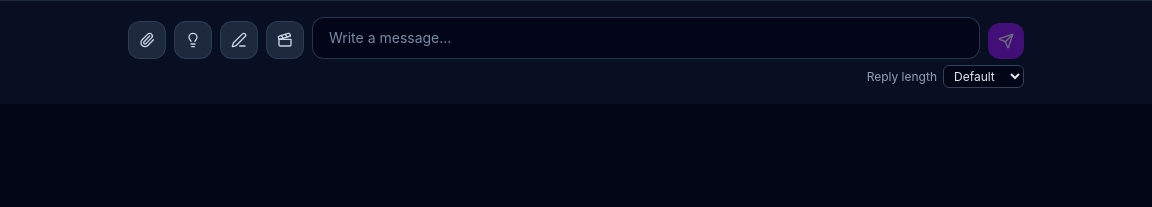
chat generation failures › shows prompt errors and retries the saved user message without inserting it again
Type "Hello" into the text box.
click(646, 38); type("Hello")  # box x1=312 y1=17 x2=980 y2=59
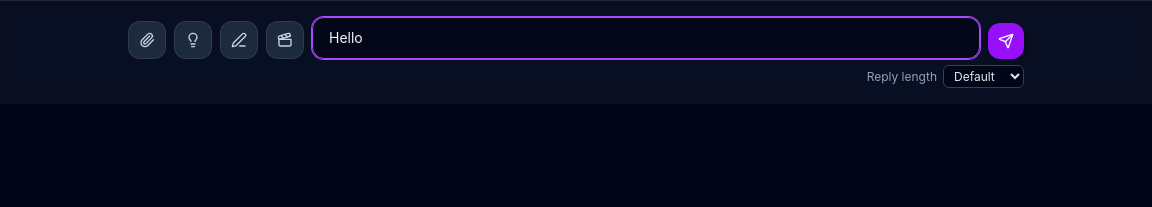
Click the button named "Send message".
click(1006, 41)  # box x1=988 y1=23 x2=1024 y2=59
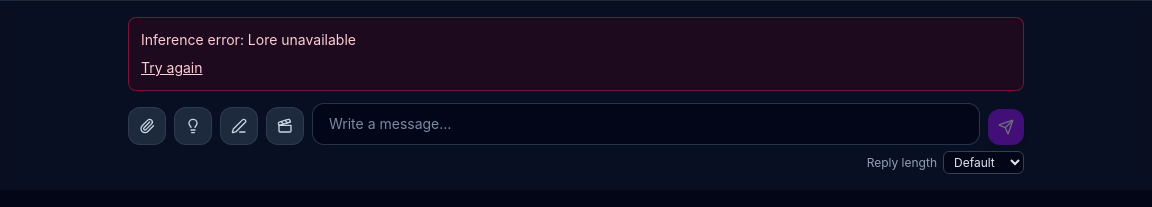
Now the message shows "Lore unavailable", box x1=141 y1=31 x2=356 y2=48
Now the text box is empty, box x1=312 y1=103 x2=980 y2=145
Click the button "Try again".
click(172, 68)  # box x1=141 y1=58 x2=202 y2=78
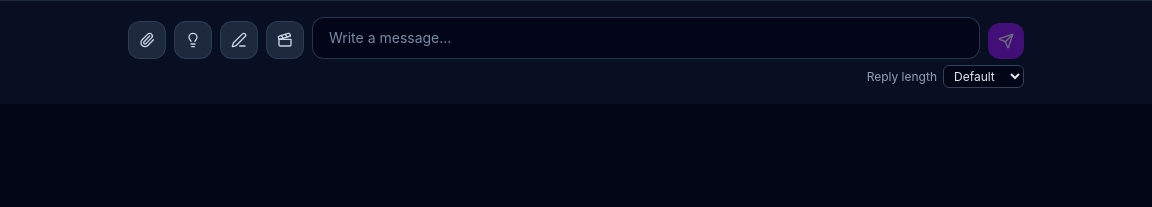
Now the message "Inference error: Lore unavailable Try again" is gone
